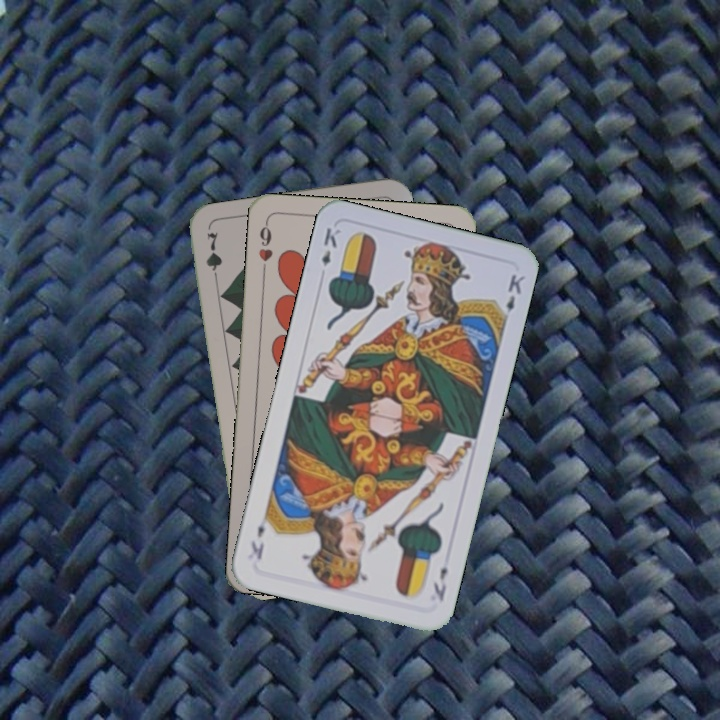EK: (317, 223, 343, 269), (429, 563, 451, 604)
G7: (202, 227, 225, 287)
H9: (255, 218, 275, 277)
